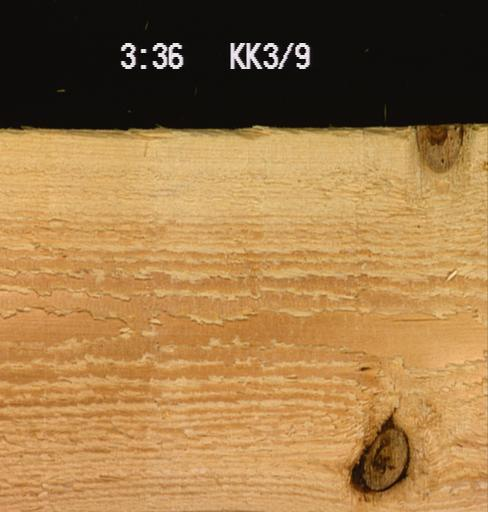edge_knot: (412, 124, 466, 173)
wave: (0, 123, 408, 139)
